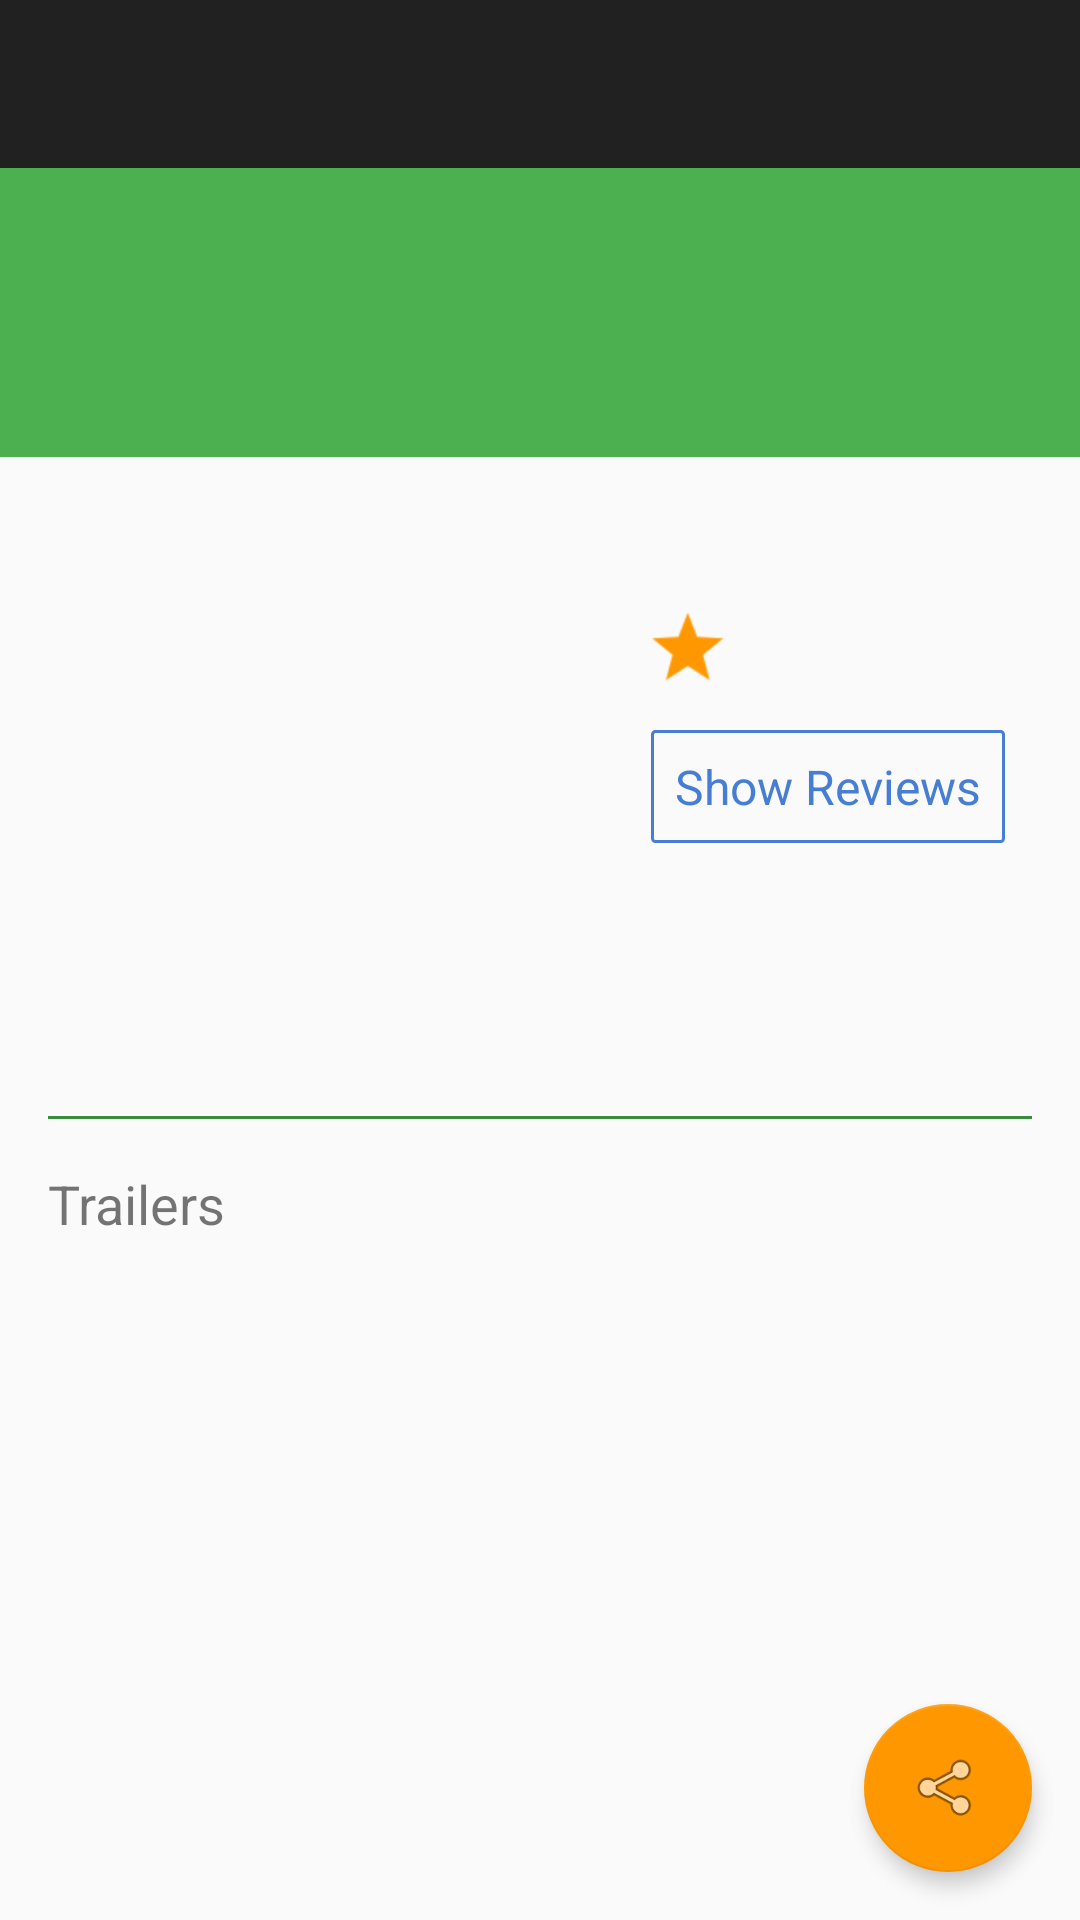

Icons on this 1080px x 1920px Android screen, each with its box as (x1, y1, x2, y2):
Rate star: (652, 613, 723, 681)
share: (864, 1704, 1032, 1872)
